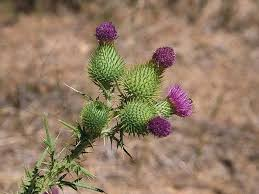bull thistle: (85, 18, 127, 91), (124, 44, 178, 98), (115, 97, 173, 141), (153, 83, 200, 120)
